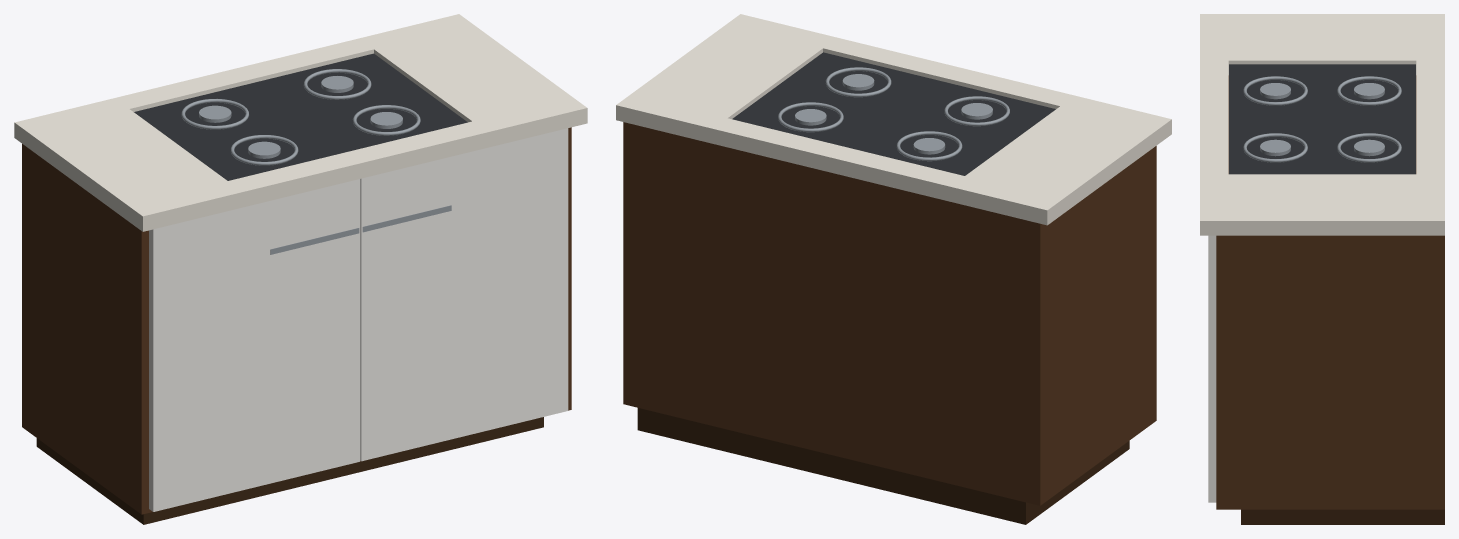
Rendered from kitchencooktop.glb.
The picture shows the model from 3 angles, left to right: view 1: azimuth 30°, elevation 25°; view 2: azimuth 150°, elevation 25°; view 3: azimuth 270°, elevation 25°; orthographic projection. The views are drawn at different scales.
Parts seen in each view (by area): view 1: material-1-door, material-0-top, material-2-body, material-6-cooktop, material-3-metal, material-4-base; view 2: material-2-body, material-0-top, material-6-cooktop, material-4-base, material-3-metal; view 3: material-2-body, material-0-top, material-6-cooktop, material-3-metal, material-4-base, material-1-door.
Boxes of the visible parts, x1=… form: material-1-door: x1=149, y1=128, x2=568, y2=511; material-0-top: x1=14, y1=14, x2=587, y2=231; material-2-body: x1=22, y1=127, x2=571, y2=514; material-6-cooktop: x1=134, y1=53, x2=467, y2=180; material-3-metal: x1=181, y1=69, x2=451, y2=254; material-4-base: x1=36, y1=417, x2=543, y2=524; material-2-body: x1=623, y1=122, x2=1156, y2=505; material-0-top: x1=616, y1=14, x2=1171, y2=225; material-6-cooktop: x1=732, y1=52, x2=1055, y2=175; material-4-base: x1=637, y1=408, x2=1129, y2=524; material-3-metal: x1=778, y1=67, x2=1009, y2=161; material-2-body: x1=1216, y1=75, x2=1444, y2=509; material-0-top: x1=1200, y1=14, x2=1444, y2=235; material-6-cooktop: x1=1229, y1=64, x2=1415, y2=174; material-3-metal: x1=1243, y1=76, x2=1401, y2=162; material-4-base: x1=1241, y1=509, x2=1444, y2=524; material-1-door: x1=1208, y1=235, x2=1216, y2=502.
Size of the model in its own units: 1.2 by 0.85 by 0.6.
